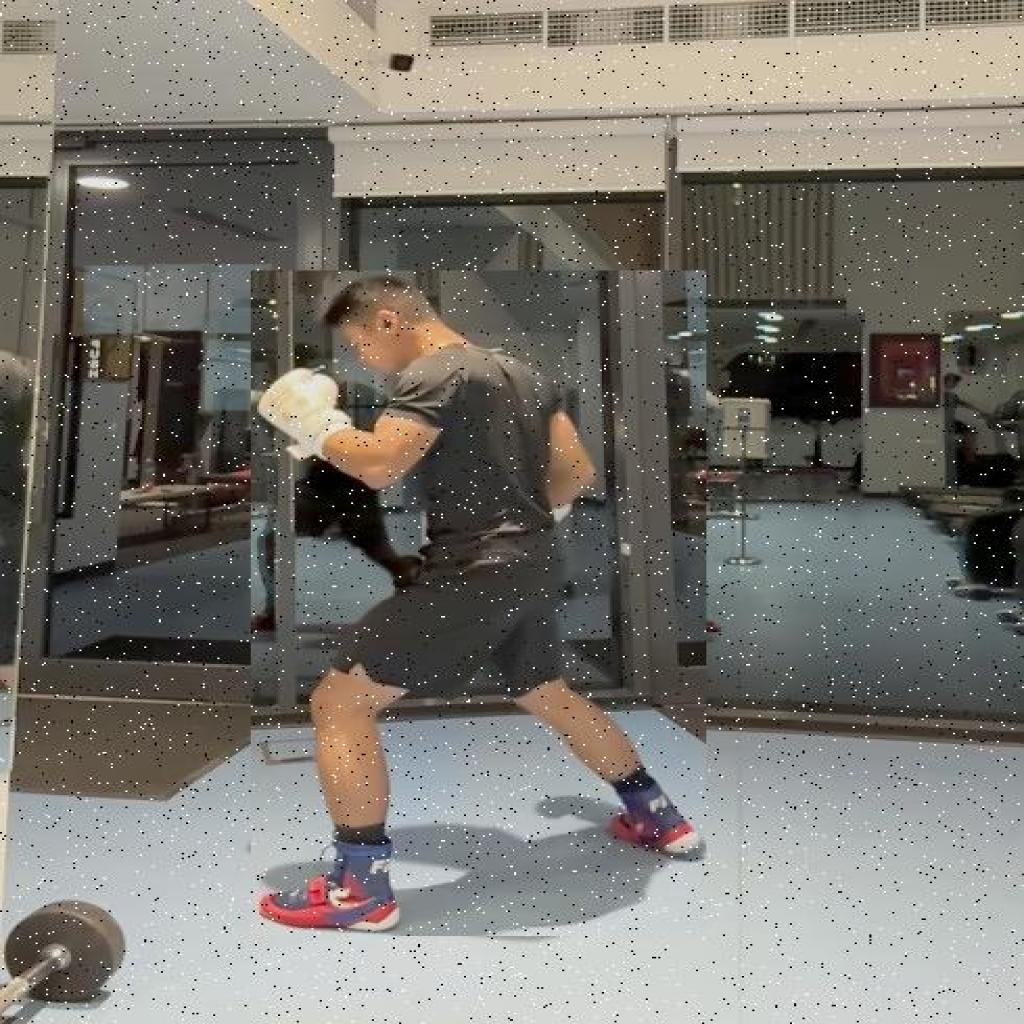no punch: (251, 270, 705, 936)
